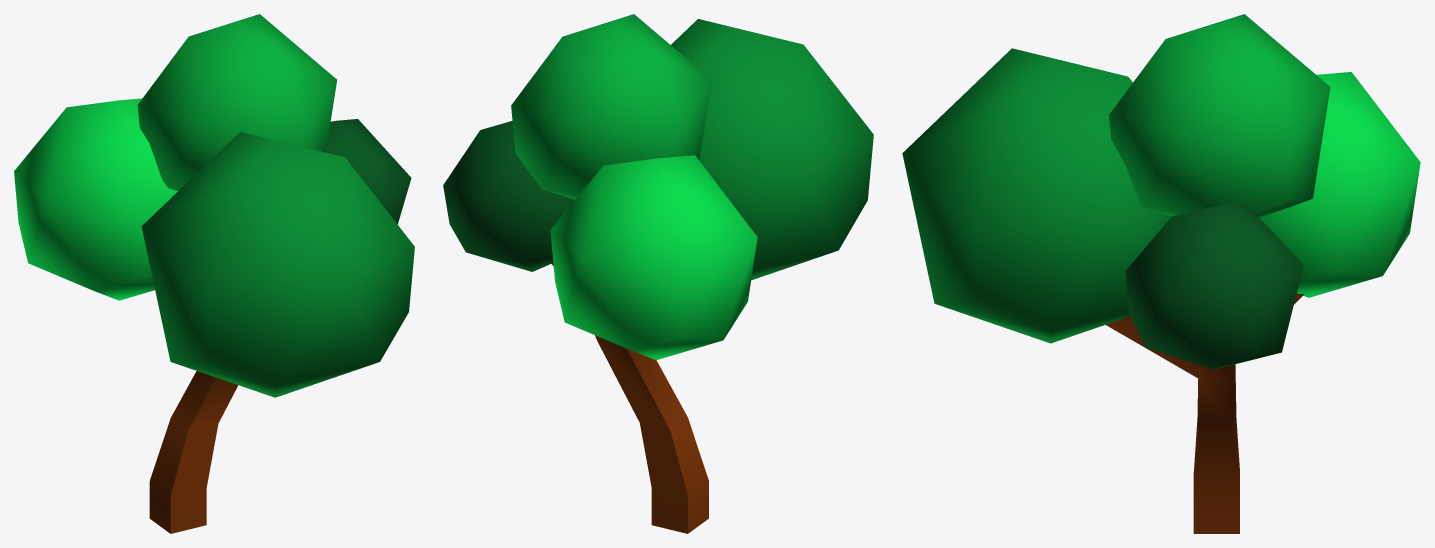
Rendered from Tree 3.fbx.
The picture shows the model from 3 angles, left to right: view 1: azimuth 30°, elevation 25°; view 2: azimuth 150°, elevation 25°; view 3: azimuth 270°, elevation 25°; orthographic projection. The views are drawn at different scales.
Parts seen in each view (by area): view 1: Kugel_2, Kugel_1, Kugel, Würfel, Kugel_3; view 2: Kugel_1, Kugel_2, Kugel, Kugel_3, Würfel; view 3: Kugel_2, Kugel, Kugel_3, Kugel_1, Würfel.
Part boxes in pixels (x1,y1,x2,y2): Kugel_2: (141,132,414,397); Kugel_1: (14,98,177,300); Kugel: (137,14,336,190); Würfel: (149,371,238,533); Kugel_3: (326,119,411,224); Kugel_1: (550,155,757,359); Kugel_2: (671,19,873,280); Kugel: (511,14,711,199); Kugel_3: (443,121,574,271); Würfel: (550,260,708,533); Kugel_2: (902,48,1171,343); Kugel: (1109,14,1330,218); Kugel_3: (1125,203,1303,369); Kugel_1: (1260,72,1420,297); Würfel: (1106,293,1304,533).
Bounding box in the file's own units: 178 × 255 × 224.
